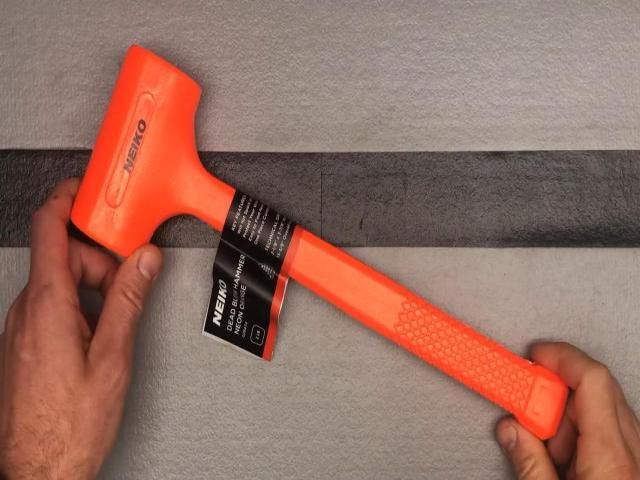hammer: (72, 45, 570, 438)
